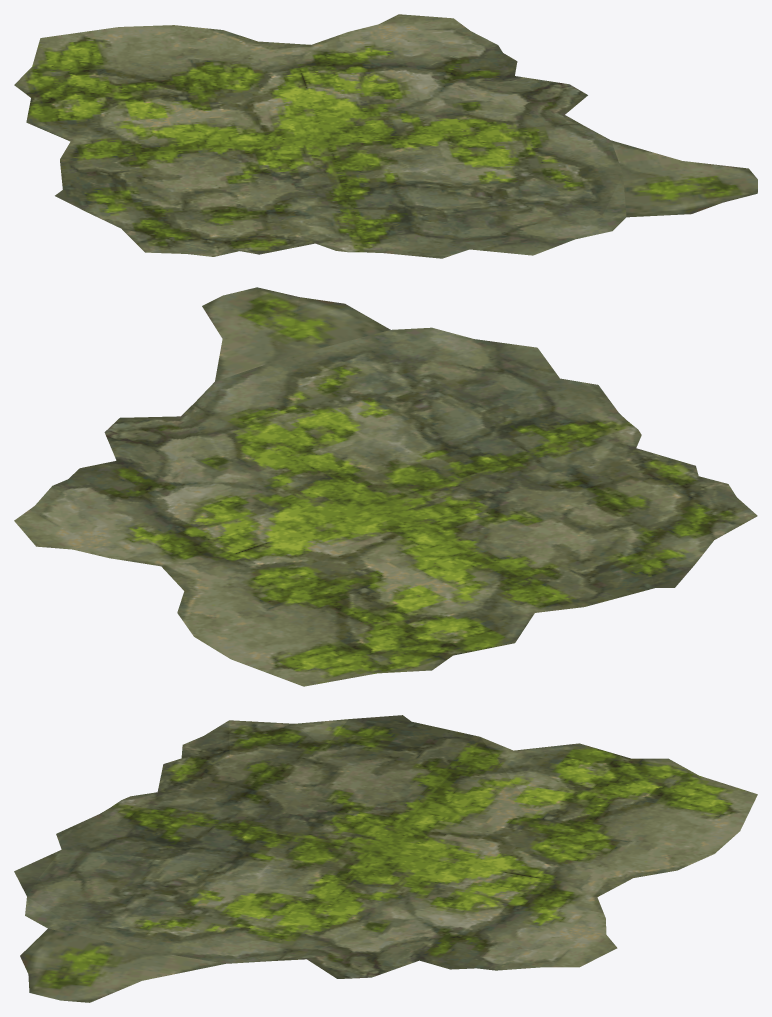
The model's file is 4002_dimian_01.FBX.
The picture shows the model from 3 angles, top to bottom: view 1: azimuth 30°, elevation 25°; view 2: azimuth 150°, elevation 25°; view 3: azimuth 270°, elevation 25°; orthographic projection. The views are drawn at different scales.
Parts seen in each view (by area): view 1: Item_4002_dimian_01; view 2: Item_4002_dimian_01; view 3: Item_4002_dimian_01.
Boxes of the visible parts, left/top/right/bottom form: Item_4002_dimian_01: left=14, top=14, right=757, bottom=258; Item_4002_dimian_01: left=14, top=287, right=757, bottom=686; Item_4002_dimian_01: left=14, top=715, right=757, bottom=1002.
Size of the model in its own units: 3266 by 3567 by 0.7072.
Materials: 1 (1 with a texture image).
